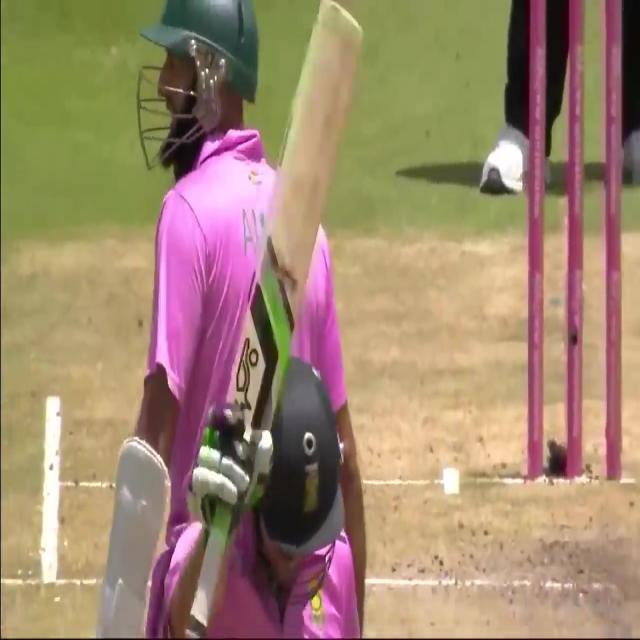Ball: (125, 1, 373, 637)
